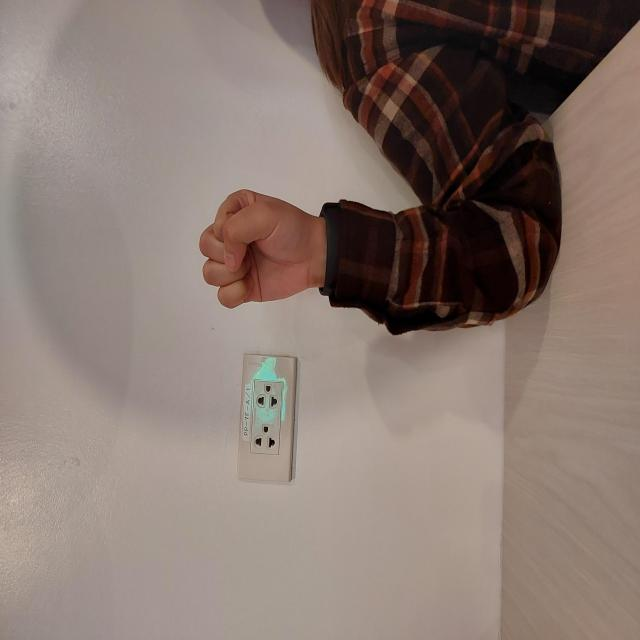S: (328, 196, 453, 322)
